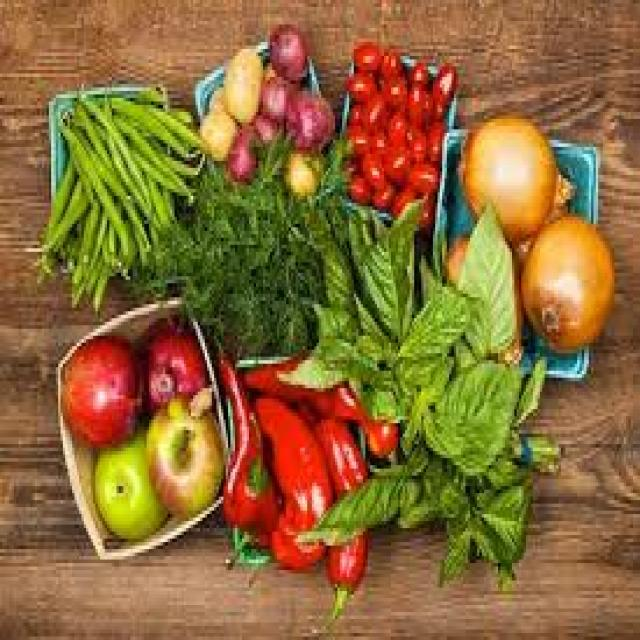organic waste: (235, 353, 400, 469), (293, 398, 368, 622), (247, 392, 331, 580), (454, 101, 572, 231), (517, 210, 612, 350), (293, 465, 468, 535), (56, 112, 130, 252), (58, 332, 144, 448), (144, 392, 223, 518), (223, 395, 280, 567), (68, 112, 144, 241), (444, 231, 519, 360), (89, 423, 168, 542), (75, 88, 152, 206), (438, 353, 514, 472), (456, 196, 512, 357), (133, 314, 207, 420), (221, 259, 300, 353), (210, 328, 252, 504), (416, 255, 486, 350), (114, 109, 191, 192), (468, 468, 528, 566), (21, 171, 91, 252), (358, 224, 409, 329), (107, 91, 191, 154), (394, 280, 466, 353), (135, 200, 191, 290), (191, 164, 223, 315), (35, 158, 74, 276), (314, 304, 377, 374), (282, 210, 321, 315), (274, 339, 354, 385), (223, 178, 263, 266), (105, 133, 149, 213), (258, 136, 286, 259), (310, 217, 349, 304), (216, 46, 258, 122), (391, 350, 442, 412), (512, 200, 568, 256), (284, 80, 333, 144), (68, 200, 100, 298), (133, 98, 200, 143), (70, 94, 114, 161), (133, 147, 186, 192), (268, 21, 305, 80), (514, 353, 545, 420), (509, 430, 558, 472), (436, 528, 472, 581), (226, 122, 260, 178), (352, 287, 386, 339), (344, 207, 372, 270), (282, 144, 318, 192), (363, 374, 407, 413), (198, 108, 235, 154), (396, 416, 428, 469), (258, 74, 289, 122), (328, 196, 354, 252), (431, 63, 456, 112), (144, 175, 166, 224), (403, 115, 426, 161), (156, 144, 193, 172), (91, 248, 107, 312), (84, 238, 100, 297), (405, 161, 435, 192), (358, 88, 384, 122), (352, 38, 379, 70), (342, 70, 372, 98), (344, 168, 368, 203), (424, 115, 444, 154), (119, 213, 132, 273), (358, 150, 382, 182), (491, 556, 514, 588), (386, 147, 412, 175), (253, 112, 274, 143), (158, 101, 189, 122), (389, 182, 414, 206), (409, 192, 433, 217), (379, 77, 405, 98), (407, 56, 426, 84), (407, 84, 426, 112), (160, 182, 174, 220), (130, 84, 161, 101), (377, 49, 398, 73), (384, 98, 405, 122), (105, 210, 116, 252), (370, 182, 389, 206), (347, 126, 365, 150), (368, 122, 384, 147), (346, 98, 361, 122), (207, 84, 221, 105), (386, 126, 401, 143)
